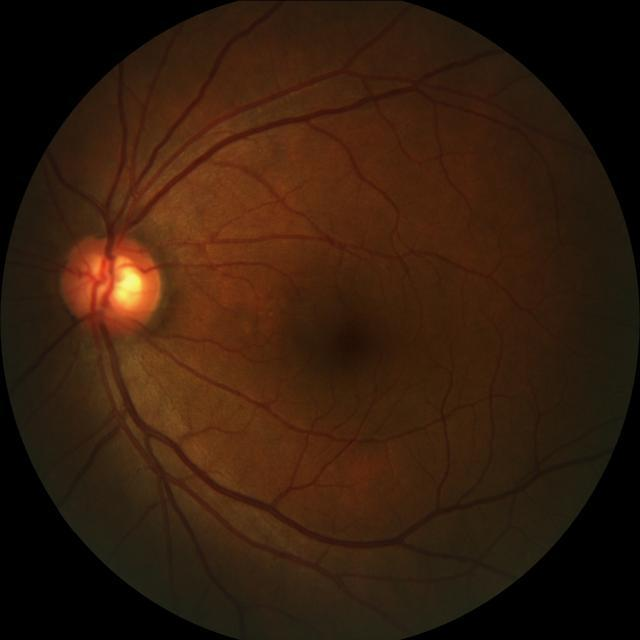OC: (84, 249, 146, 311)
OD: (63, 232, 164, 336)
